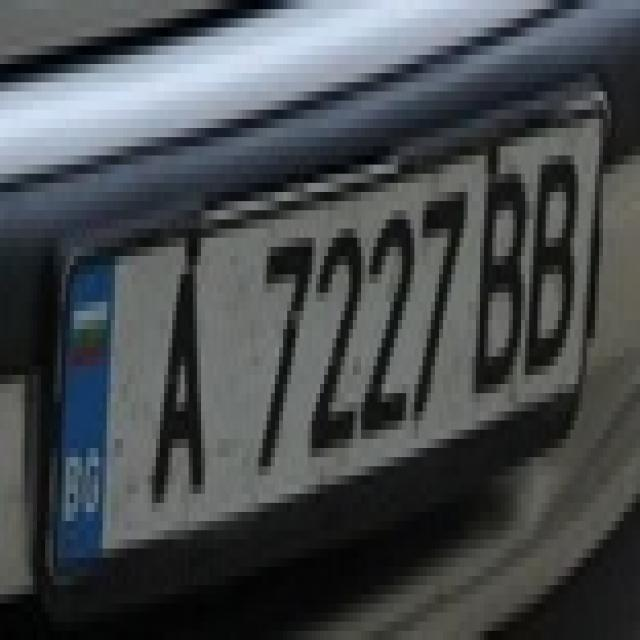licenseplate: (48, 64, 615, 612)
